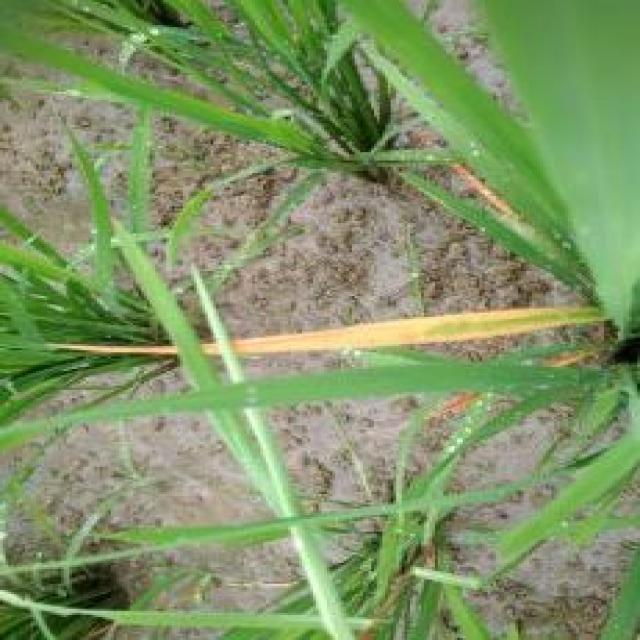Tungro: (163, 294, 624, 369)
